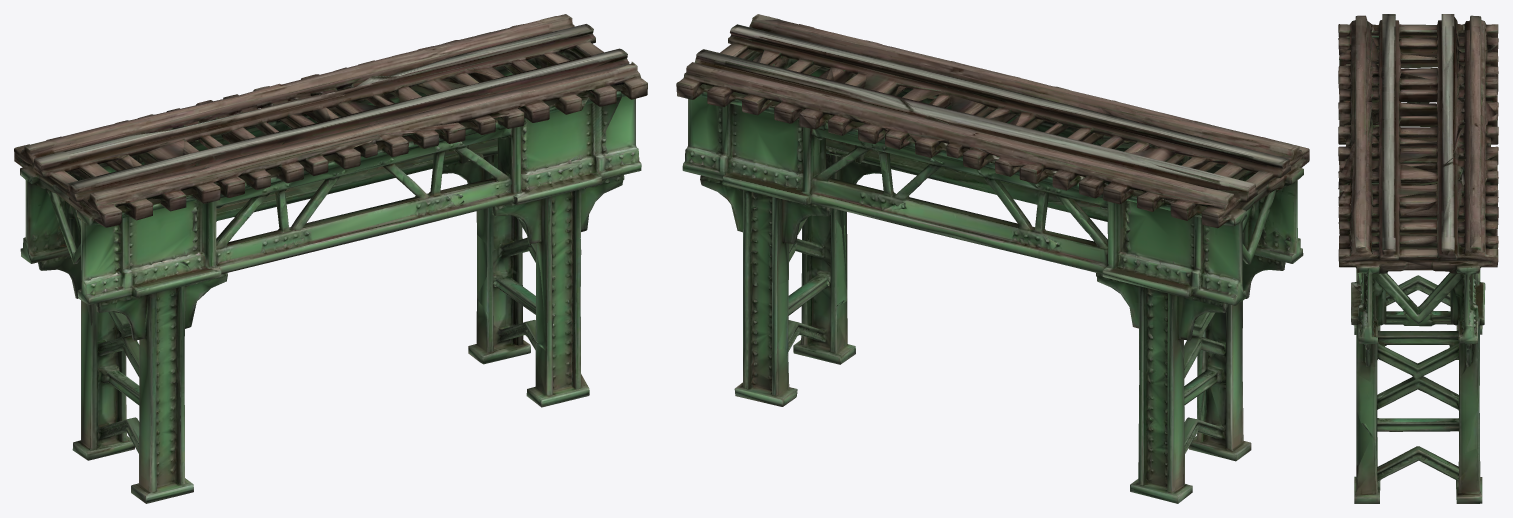
File: track.glb
3 views of the same model, side by side, from view 1: azimuth 30°, elevation 25°; view 2: azimuth 150°, elevation 25°; view 3: azimuth 270°, elevation 25° (orthographic). The views are drawn at different scales.
Parts seen in each view (by area): view 1: Mesh_0; view 2: Mesh_0; view 3: Mesh_0.
Boxes of the visible parts, left/top/right/bottom form: Mesh_0: left=14, top=14, right=647, bottom=503; Mesh_0: left=676, top=14, right=1309, bottom=503; Mesh_0: left=1338, top=14, right=1498, bottom=503.
Bounding box in the file's own units: 1.91 × 1.05 × 0.5483.
1 material, 1 textured.
